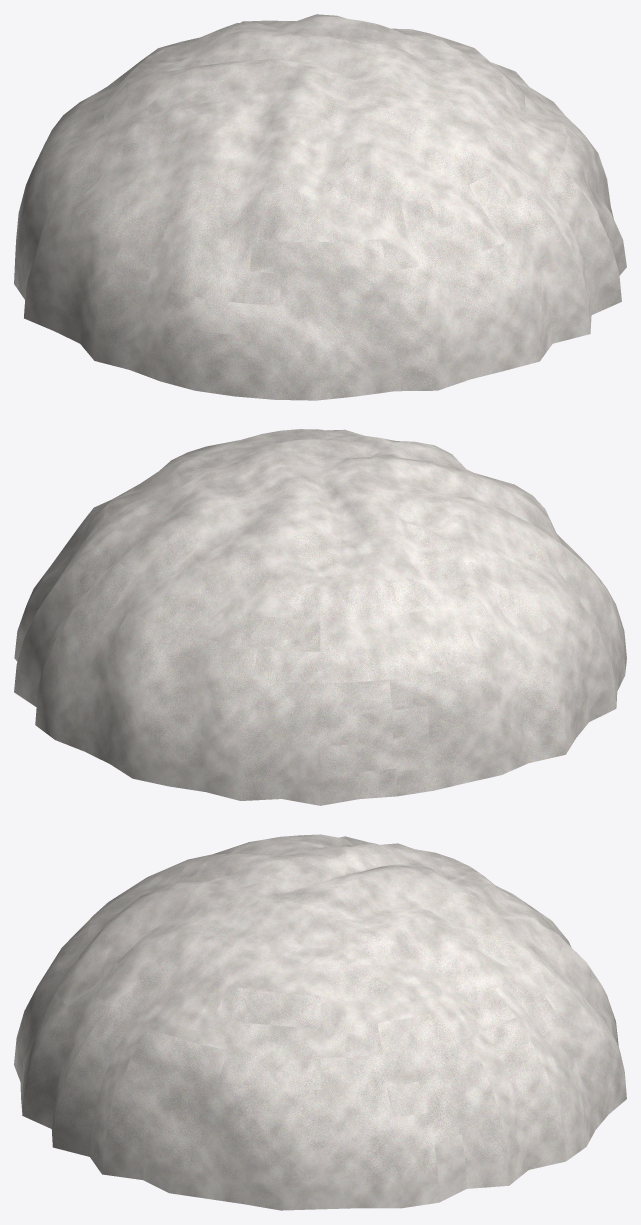
The model's file is coral_cerebro.fbx.
3 views of the same model, one above another, from view 1: azimuth 30°, elevation 25°; view 2: azimuth 150°, elevation 25°; view 3: azimuth 270°, elevation 25° (orthographic). The views are drawn at different scales.
Parts seen in each view (by area): view 1: coral_cerebro; view 2: coral_cerebro; view 3: coral_cerebro.
Boxes of the visible parts, <box> form: coral_cerebro: <box>14,14,626,400</box>; coral_cerebro: <box>14,429,626,805</box>; coral_cerebro: <box>14,834,626,1210</box>.
Bounding box in the file's own units: 1.58 × 0.5948 × 1.58.
Materials: 1 (1 with a texture image).
